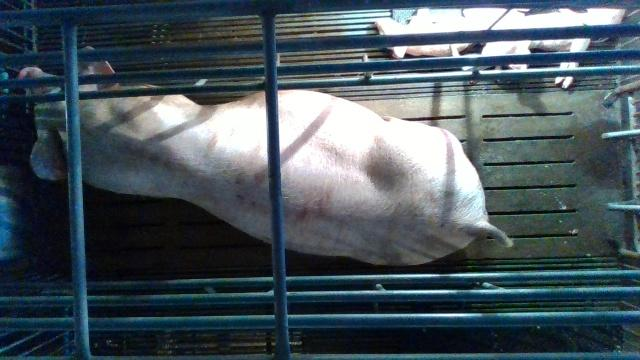piglet: (481, 5, 626, 90), (375, 8, 506, 59)
sow-sit: (20, 47, 513, 268)
